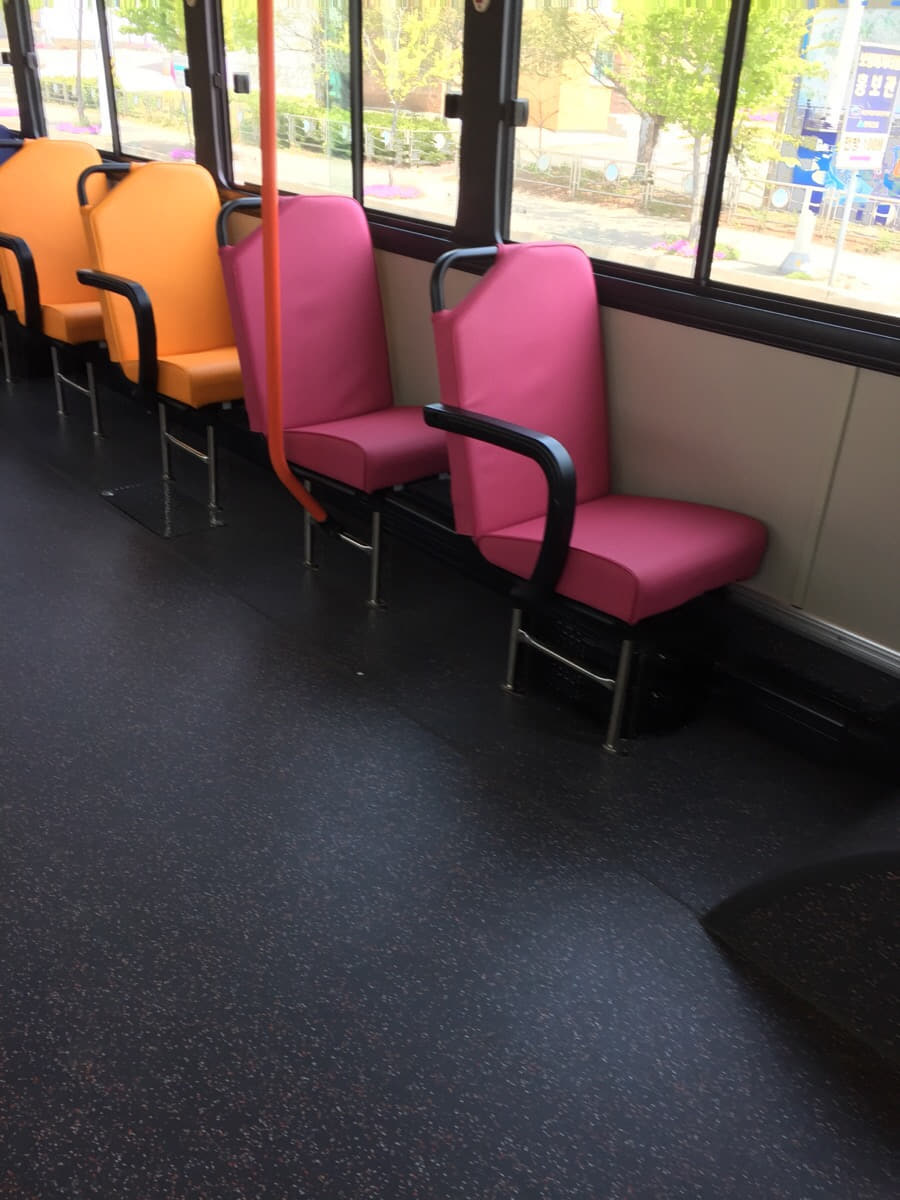seat: (434, 235, 787, 622)
